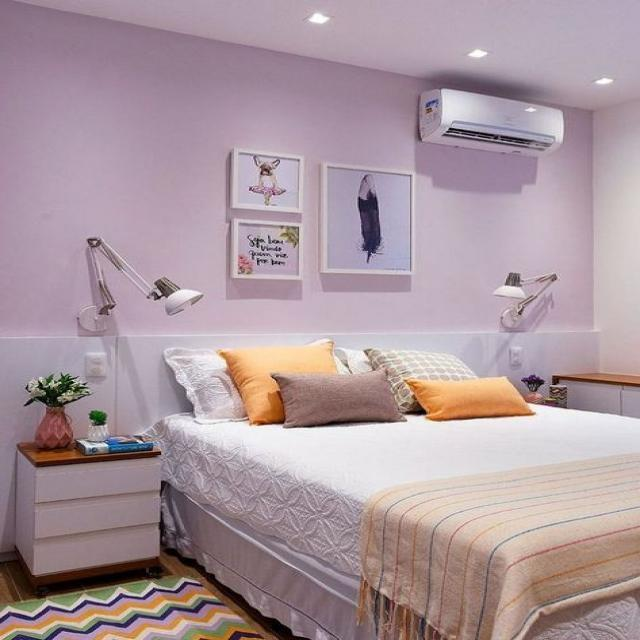AC: (417, 86, 564, 158)
